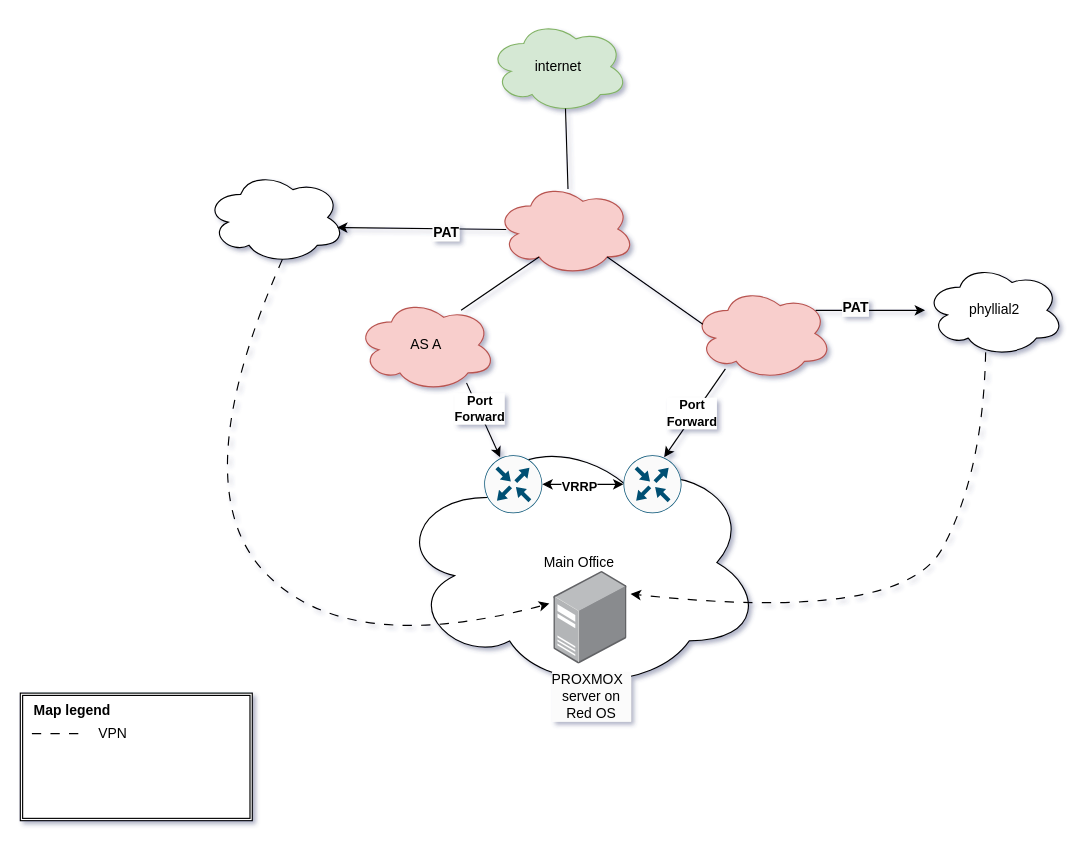
This 1092x848 diagram has some shape labels left out. Here are the shapes that lost their labels. From the top down, the centre of each, then its label:
At (275,217): "phyllial1".
At (565,229): "AS C".
At (762,333): "AS B".
